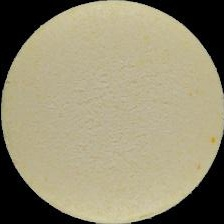61786-600: (0, 0, 224, 224)
